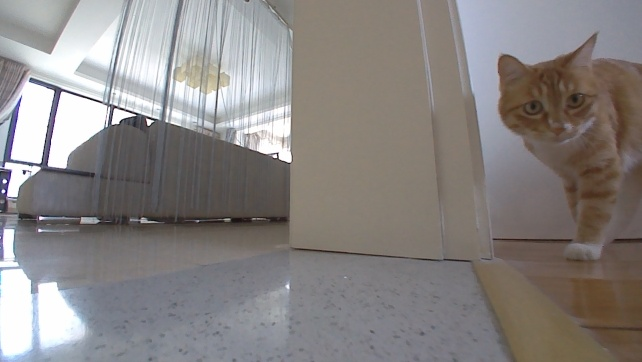cat: (492, 28, 641, 263)
sofa1: (15, 116, 290, 228)
